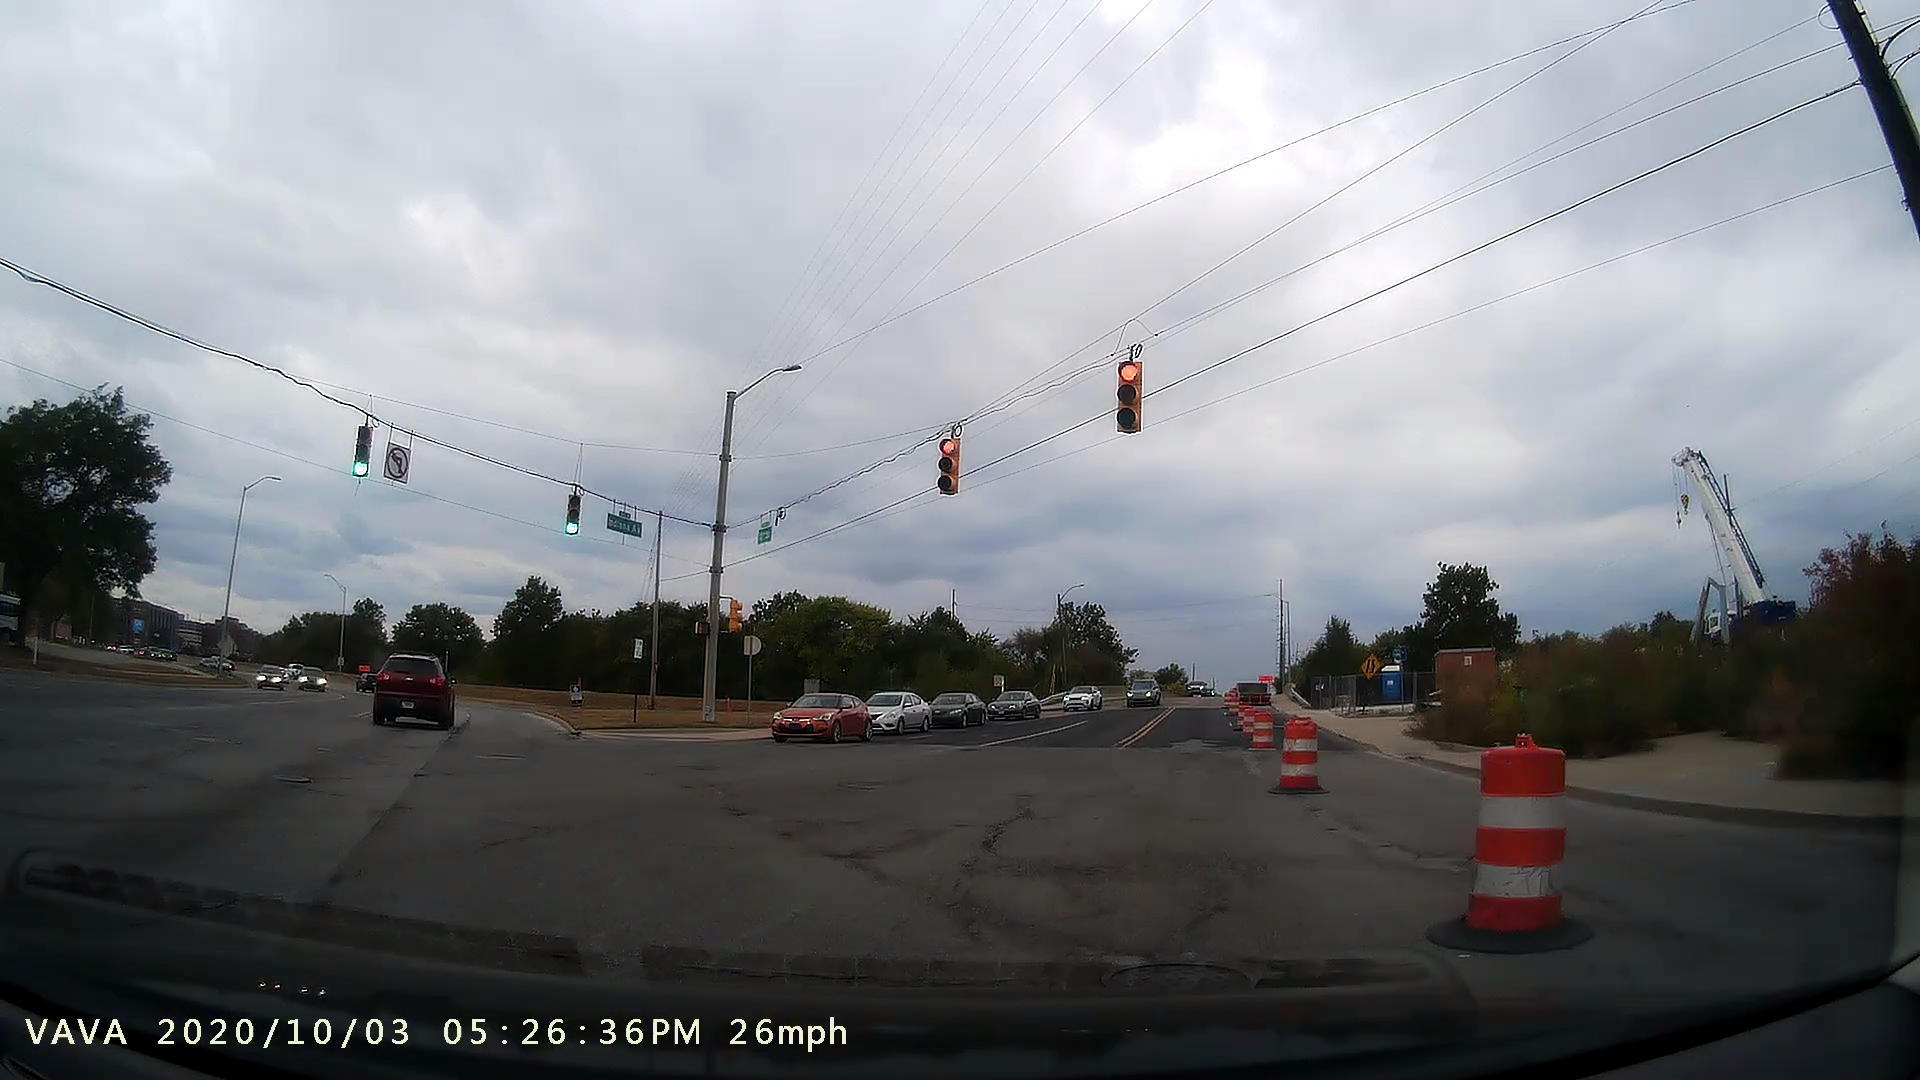const_barrel: (1414, 736, 1607, 963), (1263, 708, 1338, 800)
